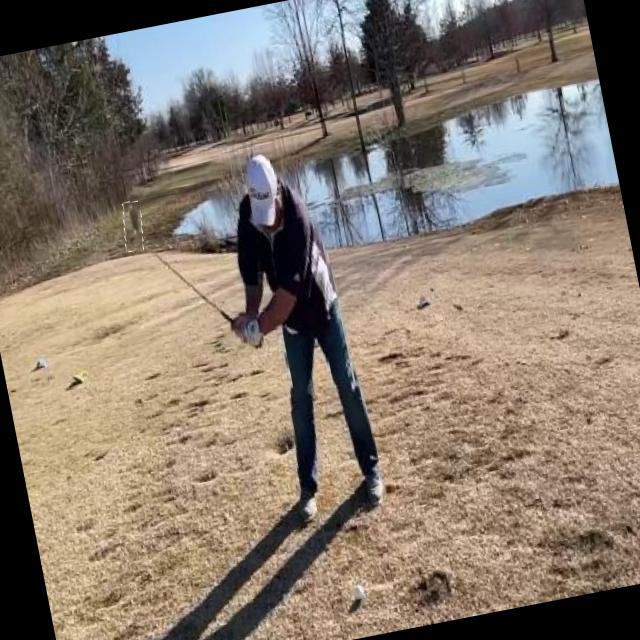club head: (119, 200, 147, 252)
